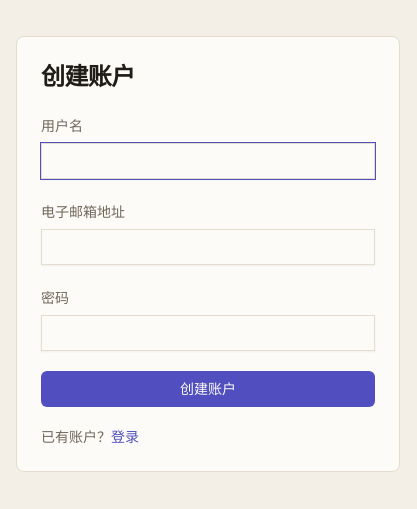
注册页 › 用户名被占用时展示后端消息，不跳转
Type "newbie" into the field with test id "register-username" at (208, 161), box left=41, top=143, right=375, bottom=179
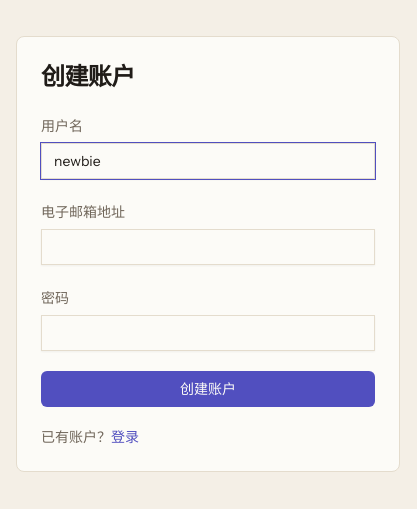
Type "newbie@example.com" into the field with test id "register-email" at (208, 247), box left=41, top=229, right=375, bottom=265
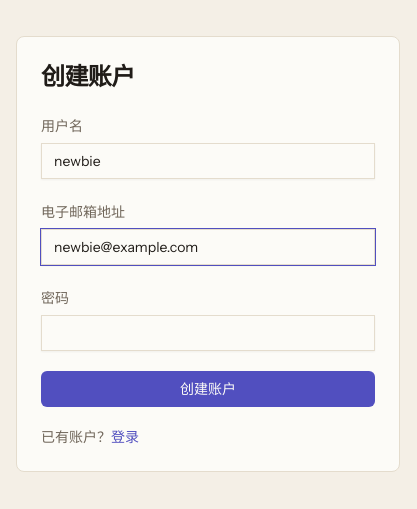
Type "secret-pass" into the password field with test id "register-password" at (208, 333), box left=41, top=315, right=375, bottom=351
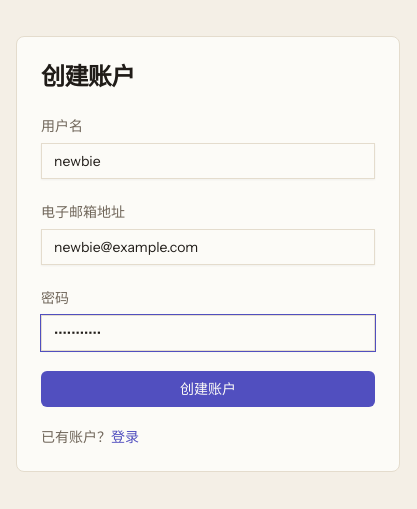
Click the button with test id "register-submit" at (208, 389), box left=41, top=371, right=375, bottom=407
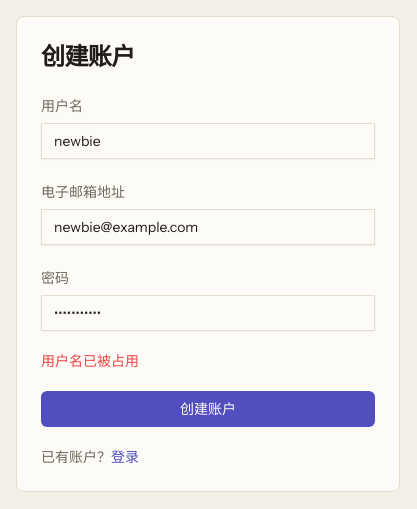
Now the message reads "用户名已被占用", box left=41, top=352, right=139, bottom=370
